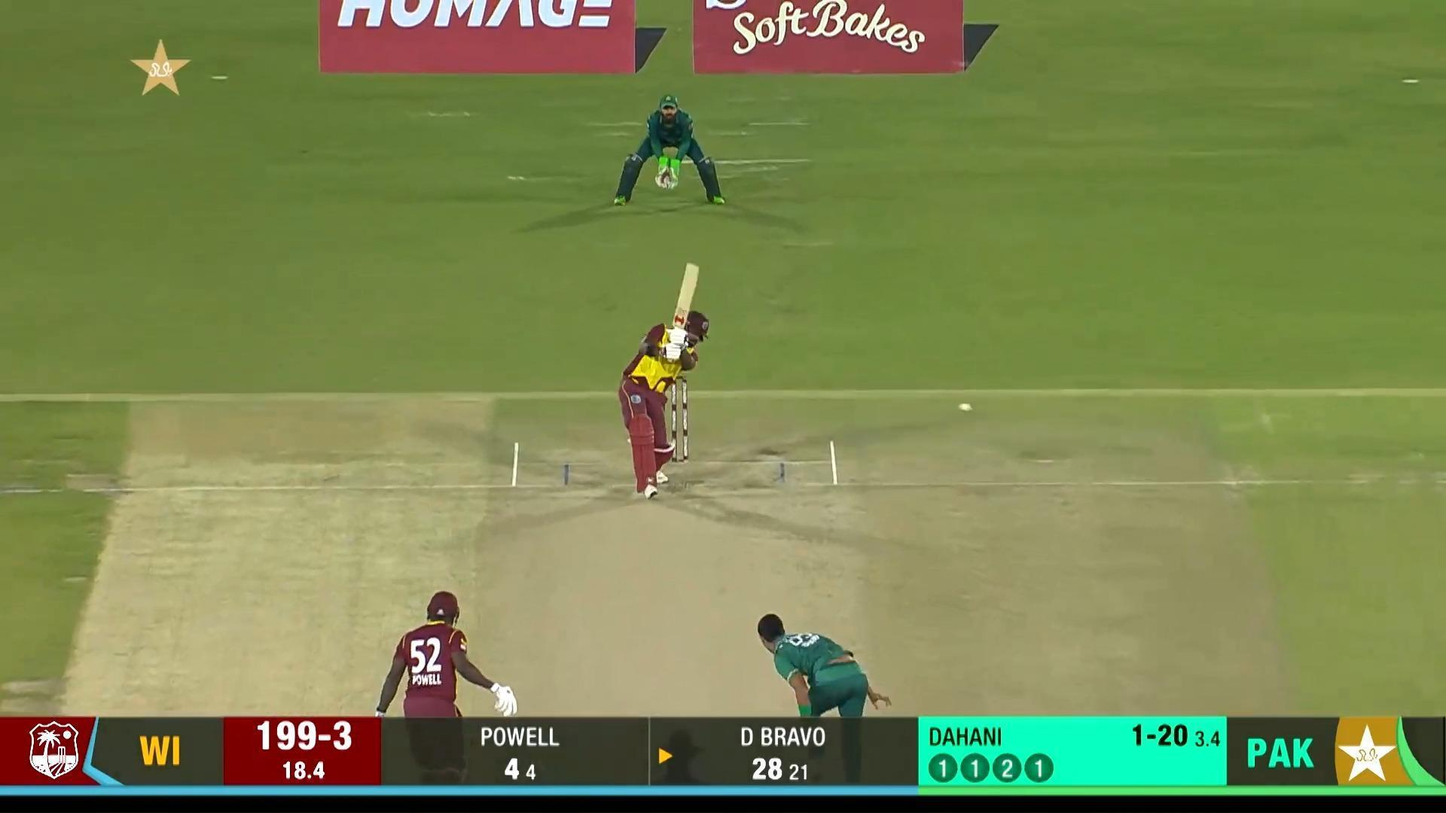BM 1: (618, 261, 710, 499)
BO: (756, 611, 891, 716)
